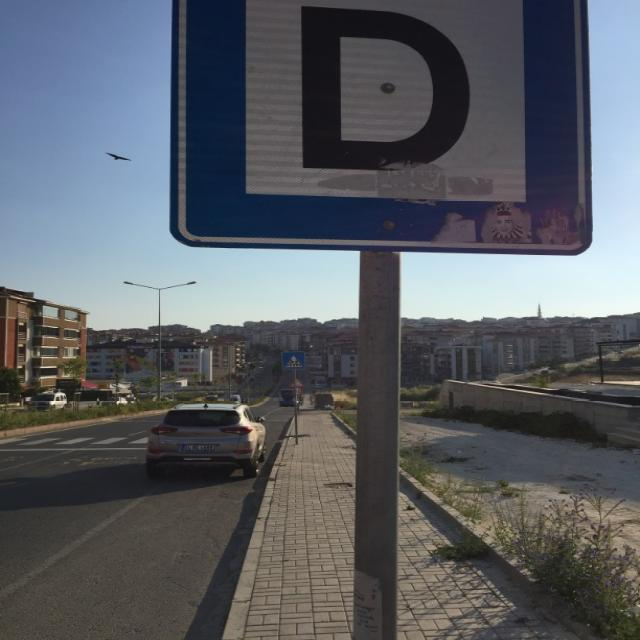durak: (171, 2, 592, 258)
